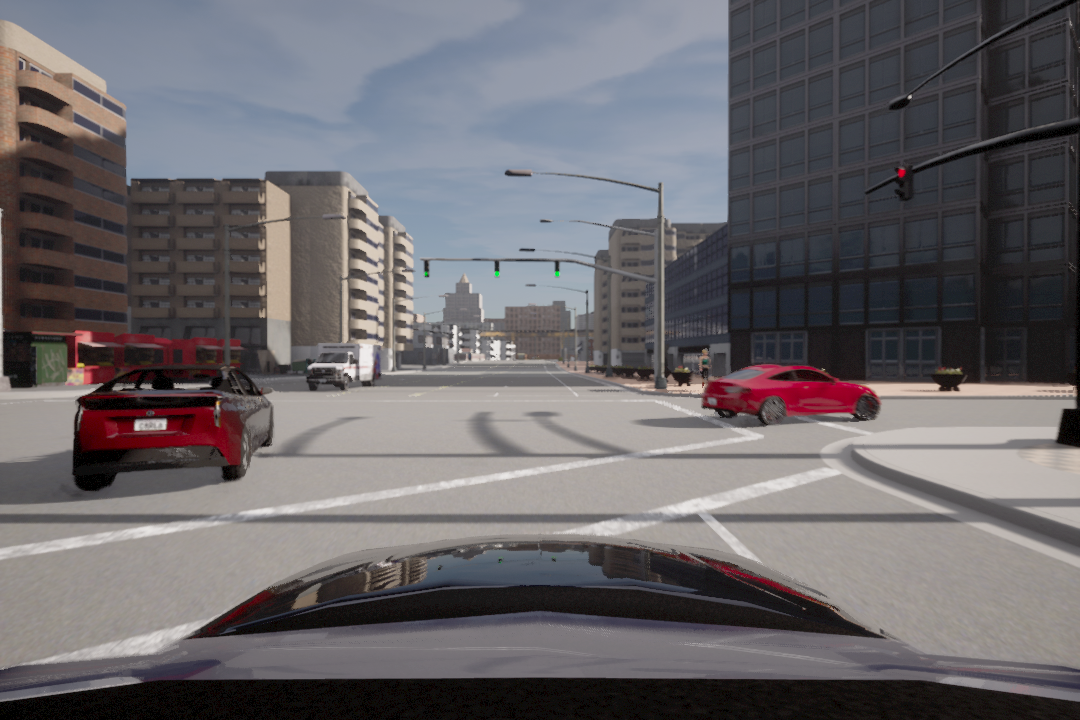TrafficLight: (890, 164, 914, 205), (552, 257, 562, 280), (421, 257, 431, 277), (493, 256, 500, 281)
